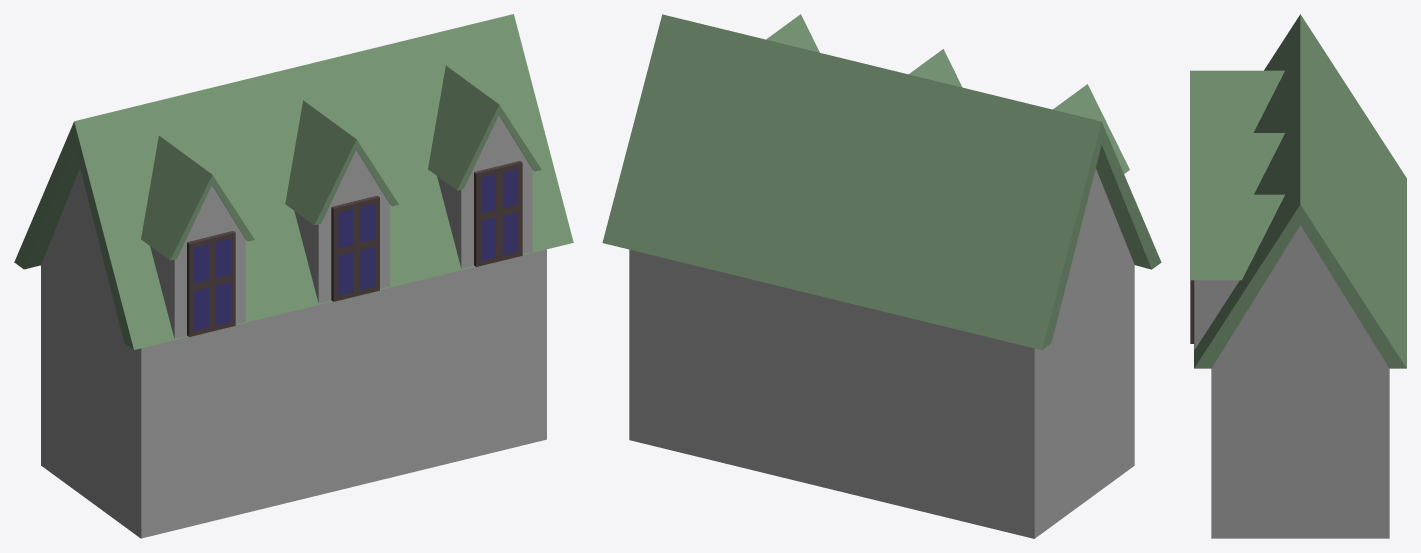
The model's file is Bcastle2.fbx.
3 renders of one model, left to right at view 1: azimuth 30°, elevation 25°; view 2: azimuth 150°, elevation 25°; view 3: azimuth 270°, elevation 25°, orthographic. The views are drawn at different scales.
Parts seen in each view (by area): view 1: polySurface10; view 2: polySurface10; view 3: polySurface10.
Part boxes in pixels (box(x1,y1,x2,y2)): polySurface10: box(14, 14, 573, 538); polySurface10: box(602, 14, 1161, 538); polySurface10: box(1190, 14, 1406, 538).
Bounding box in the file's own units: 2831 × 2369 × 1361.
